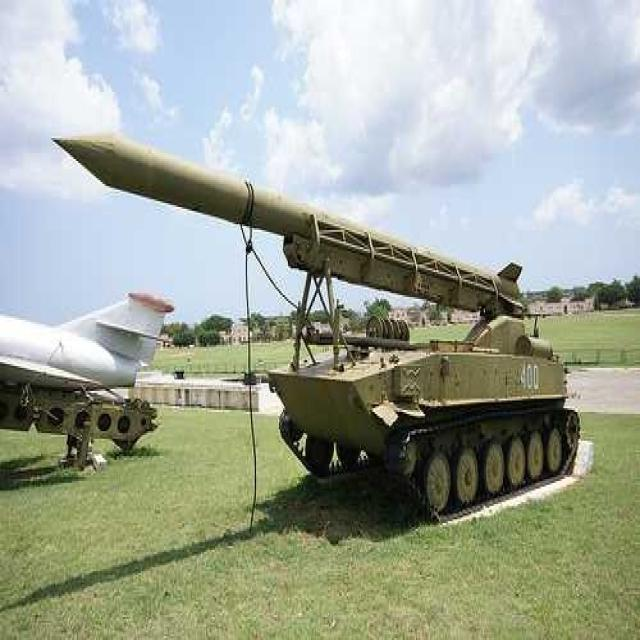missile: (52, 126, 525, 320)
